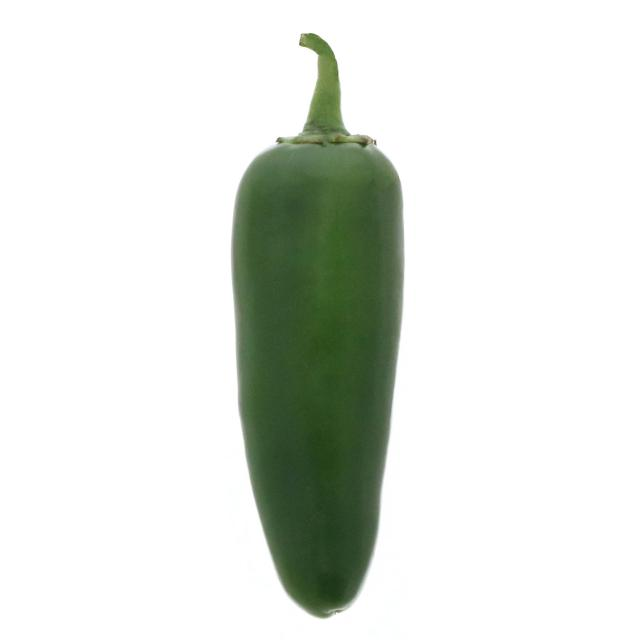aji: (216, 55, 434, 628)
